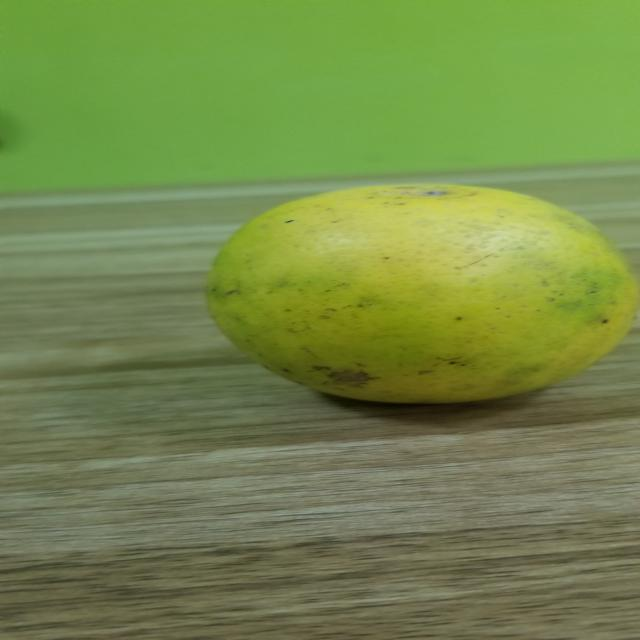Ripe orange: (186, 178, 634, 412)
